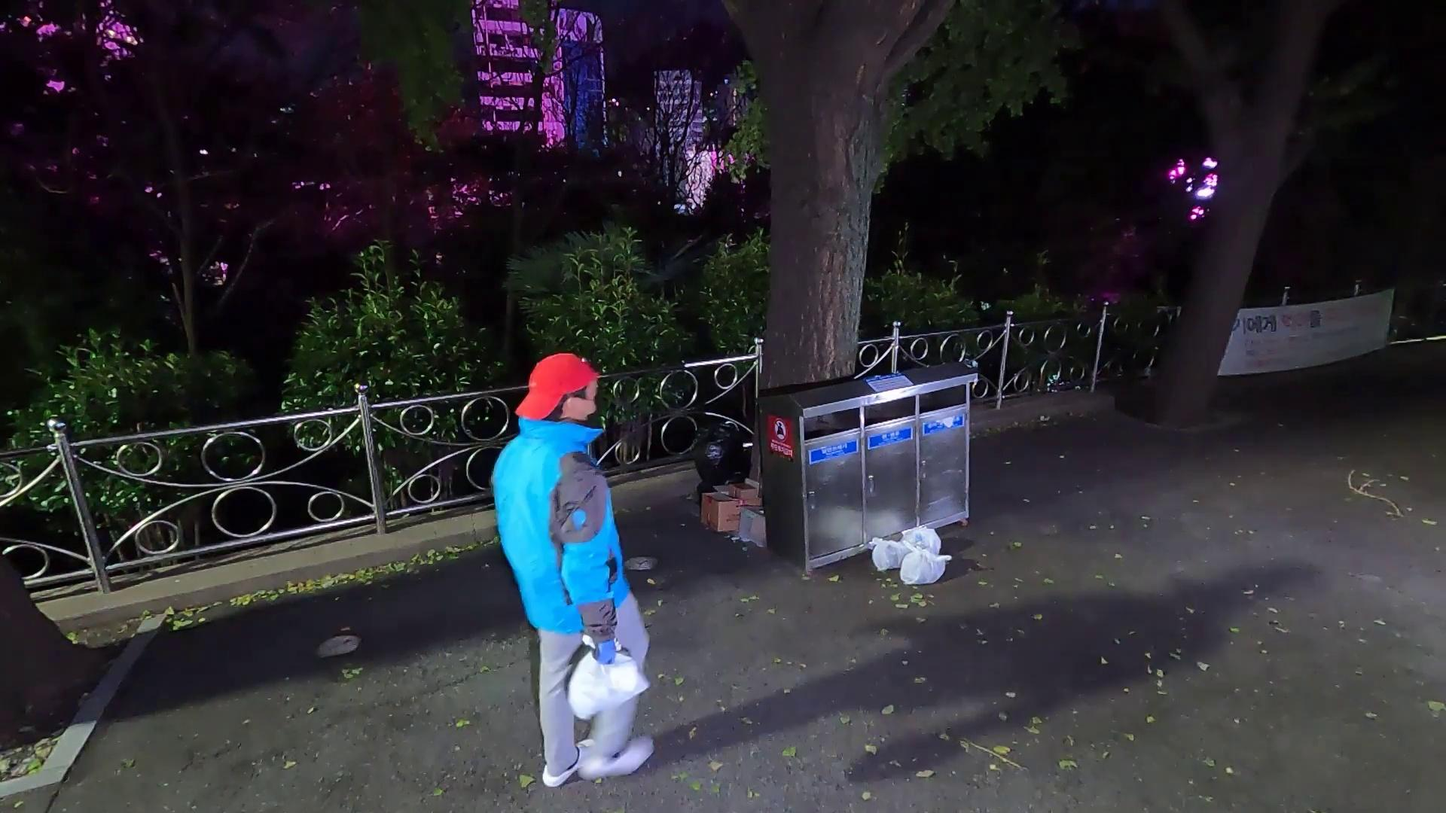person: (482, 341, 671, 787)
trash: (565, 632, 653, 725), (695, 421, 752, 482), (700, 485, 765, 531), (899, 543, 954, 587), (691, 475, 758, 507), (868, 529, 913, 571), (897, 522, 946, 559), (737, 505, 767, 546), (725, 478, 760, 501)
